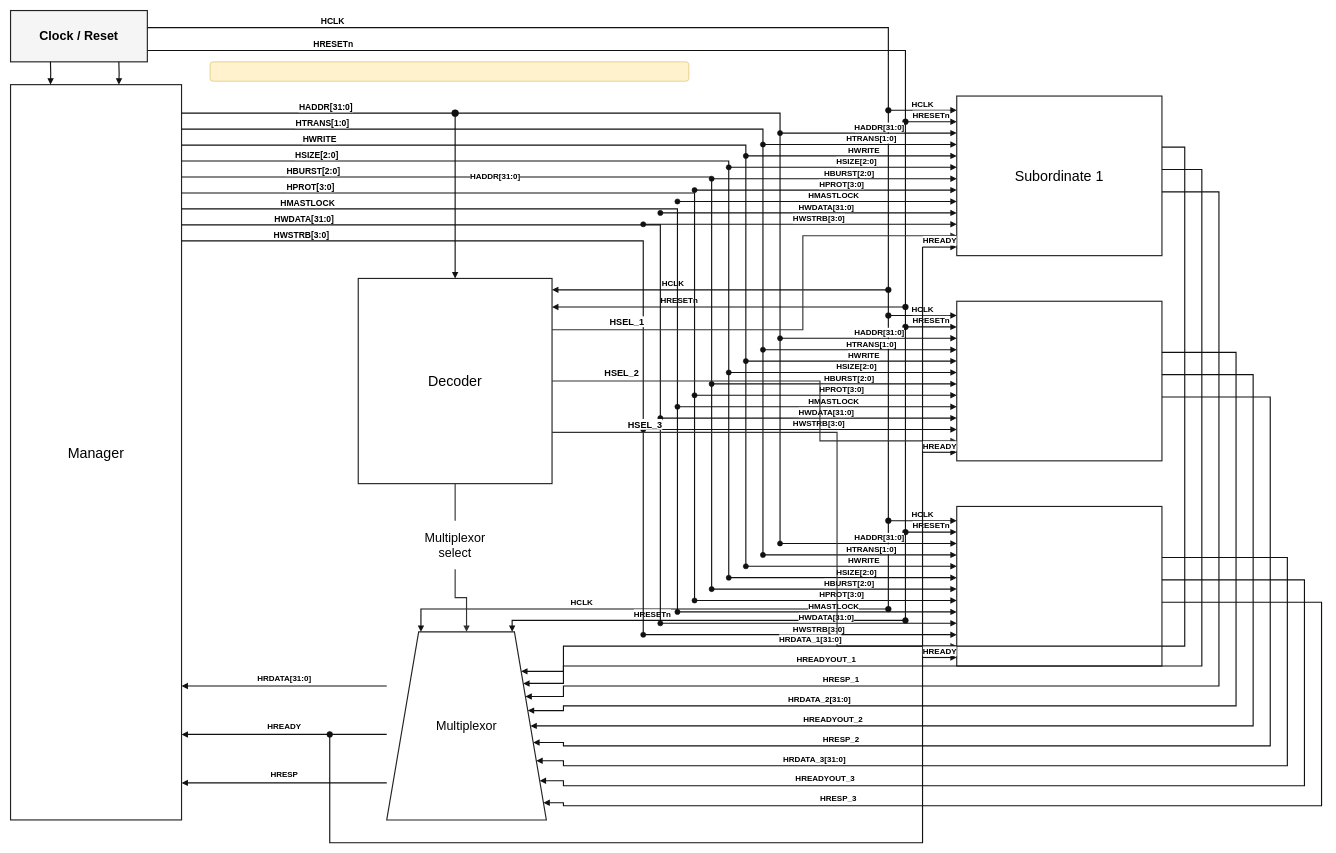
This 1336x853 diagram has some shape labels left out. Each missing label, with the centre of its shape:
"Example widths only: ADDR_WIDTH=32, DATA_WIDTH=32, HPROT_WIDTH=4, HBURST_WIDTH=3" belongs at point 449,71.
"Subordinate 2" belongs at point 1059,380.
"Subordinate 3" belongs at point 1059,586.
